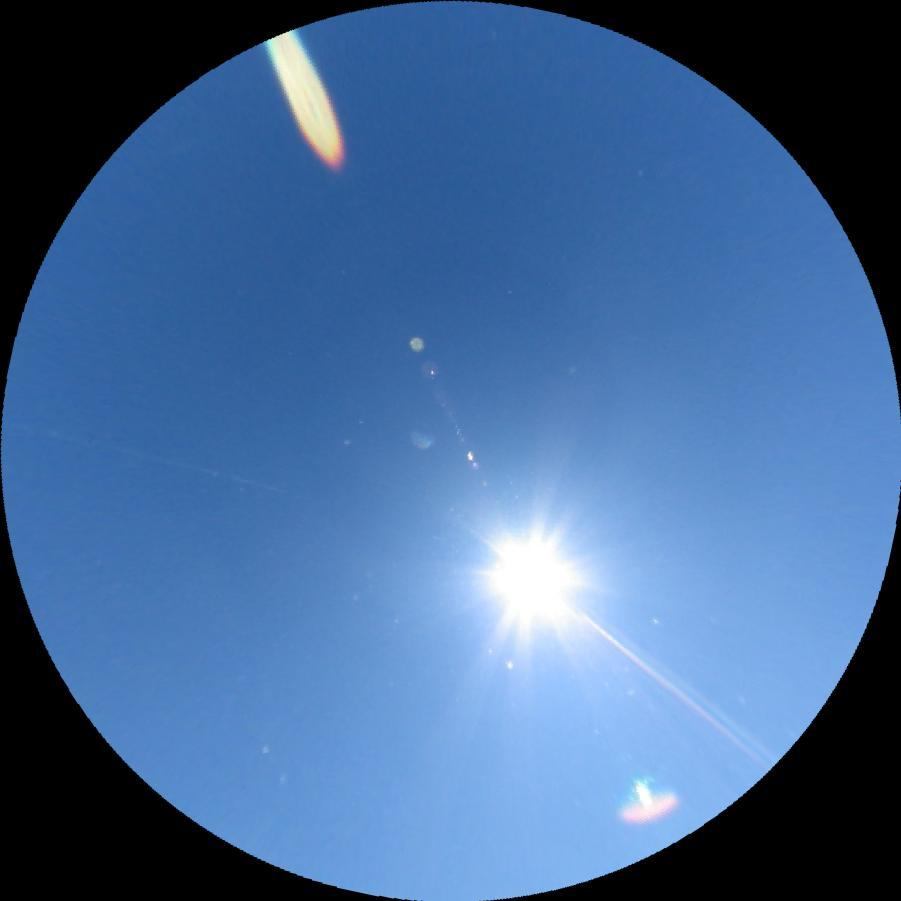parasite: (564, 602, 772, 769), (4, 421, 287, 493)
sun: (471, 515, 589, 638)
